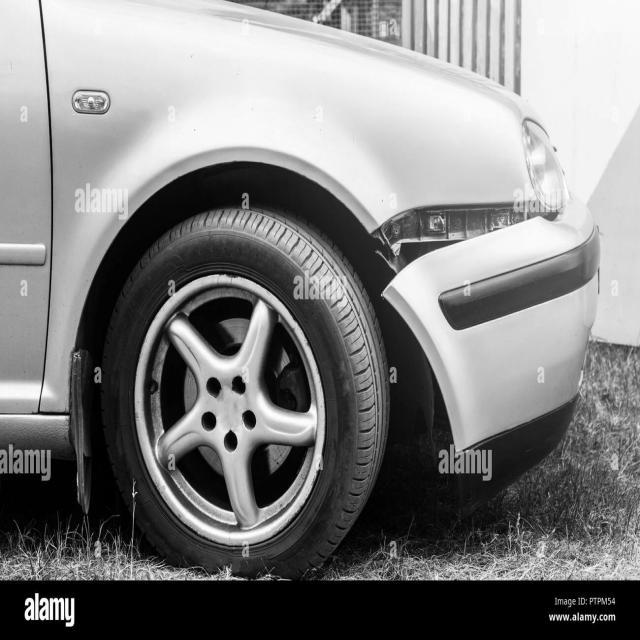misalignment: (370, 200, 559, 295)
